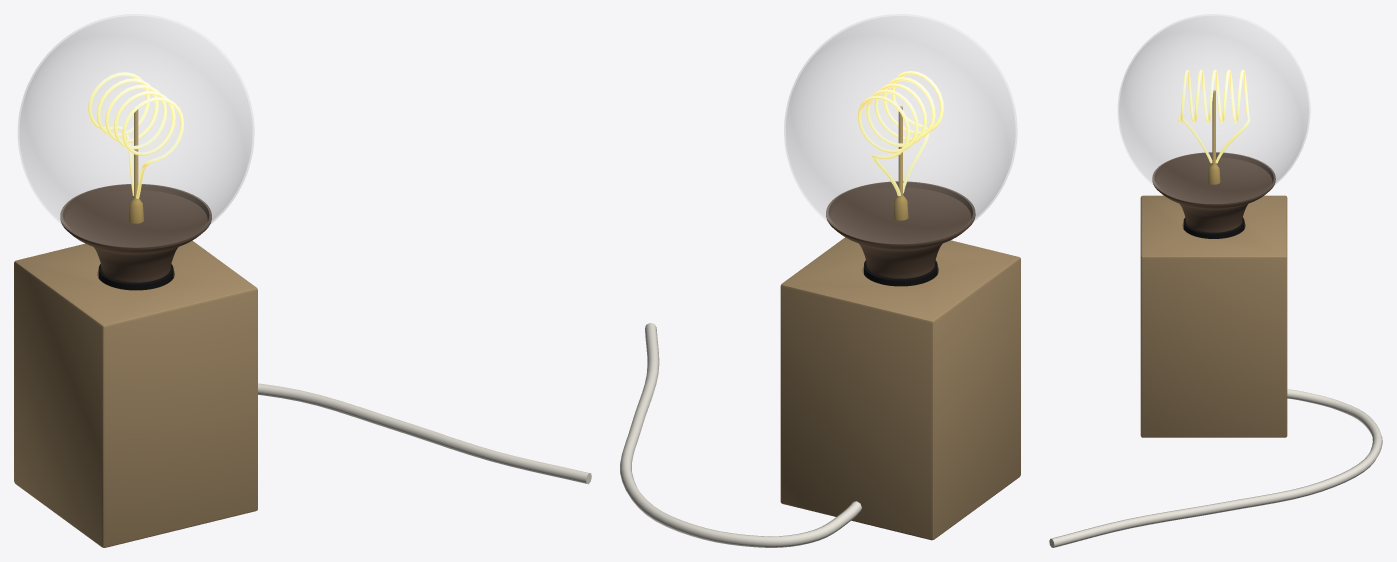
File: bulb-block.glb
The picture shows the model from 3 angles, left to right: view 1: azimuth 30°, elevation 25°; view 2: azimuth 150°, elevation 25°; view 3: azimuth 270°, elevation 25°; orthographic projection. The views are drawn at different scales.
Visible parts, largest first — view 1: BB-block, BB-globe, BB-collar, BB-cable, BB-filament, BB-stem, BB-socket; view 2: BB-block, BB-globe, BB-collar, BB-cable, BB-filament, BB-stem, BB-socket; view 3: BB-block, BB-globe, BB-collar, BB-cable, BB-filament, BB-stem, BB-socket.
Part boxes in pixels (<box>): BB-block: <box>14,240,257,547</box>; BB-globe: <box>18,14,254,247</box>; BB-collar: <box>60,184,211,282</box>; BB-cable: <box>258,383,591,484</box>; BB-filament: <box>88,72,183,198</box>; BB-stem: <box>128,109,143,223</box>; BB-socket: <box>98,264,173,290</box>; BB-block: <box>780,237,1020,540</box>; BB-globe: <box>784,14,1017,243</box>; BB-collar: <box>826,181,975,278</box>; BB-cable: <box>620,323,861,547</box>; BB-filament: <box>857,71,943,196</box>; BB-stem: <box>893,106,908,220</box>; BB-socket: <box>864,260,937,286</box>; BB-block: <box>1140,195,1287,437</box>; BB-globe: <box>1118,14,1310,203</box>; BB-collar: <box>1152,152,1275,232</box>; BB-cable: <box>1049,389,1382,547</box>; BB-filament: <box>1178,69,1250,163</box>; BB-stem: <box>1207,90,1220,184</box>; BB-socket: <box>1183,217,1244,238</box>.
Size of the model in its own units: 0.2802 by 0.2748 by 0.2159.
